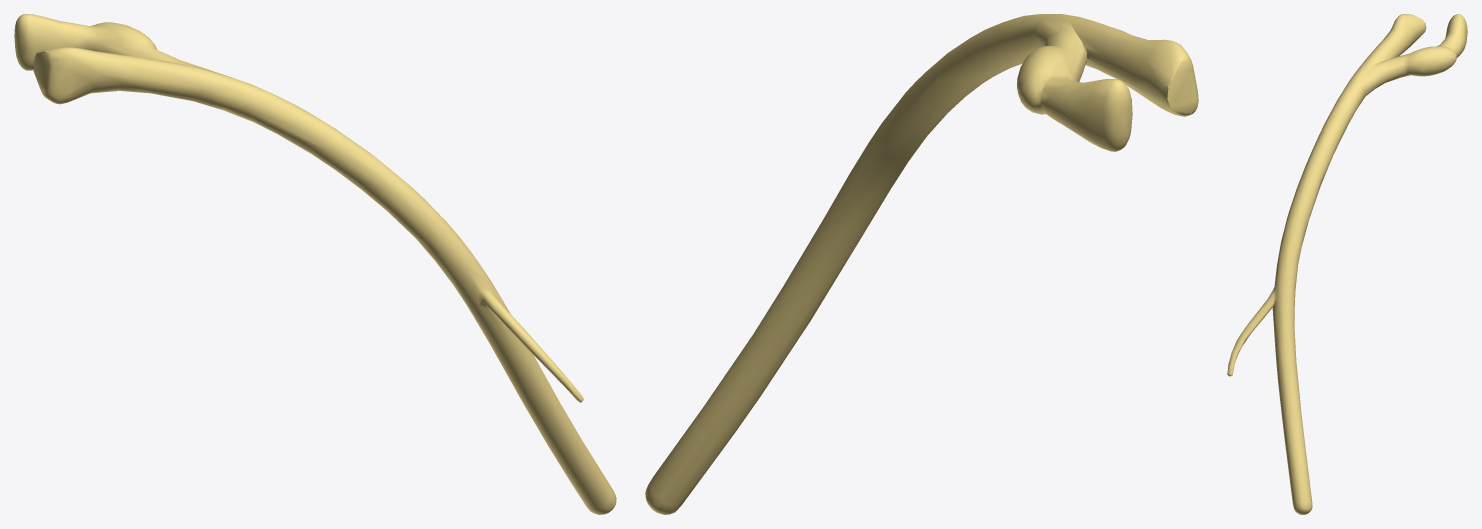
The model's file is fma24105_fj4264.glb.
The picture shows the model from 3 angles, left to right: view 1: azimuth 30°, elevation 25°; view 2: azimuth 150°, elevation 25°; view 3: azimuth 270°, elevation 25°; orthographic projection. The views are drawn at different scales.
Parts seen in each view (by area): view 1: FMA24105_FJ4264; view 2: FMA24105_FJ4264; view 3: FMA24105_FJ4264.
Part boxes in pixels (box(x1,y1,x2,y2)): FMA24105_FJ4264: box(14, 14, 616, 514); FMA24105_FJ4264: box(645, 14, 1198, 514); FMA24105_FJ4264: box(1227, 14, 1467, 514).
Size of the model in its own units: 0.039 by 0.0397 by 0.0247.
